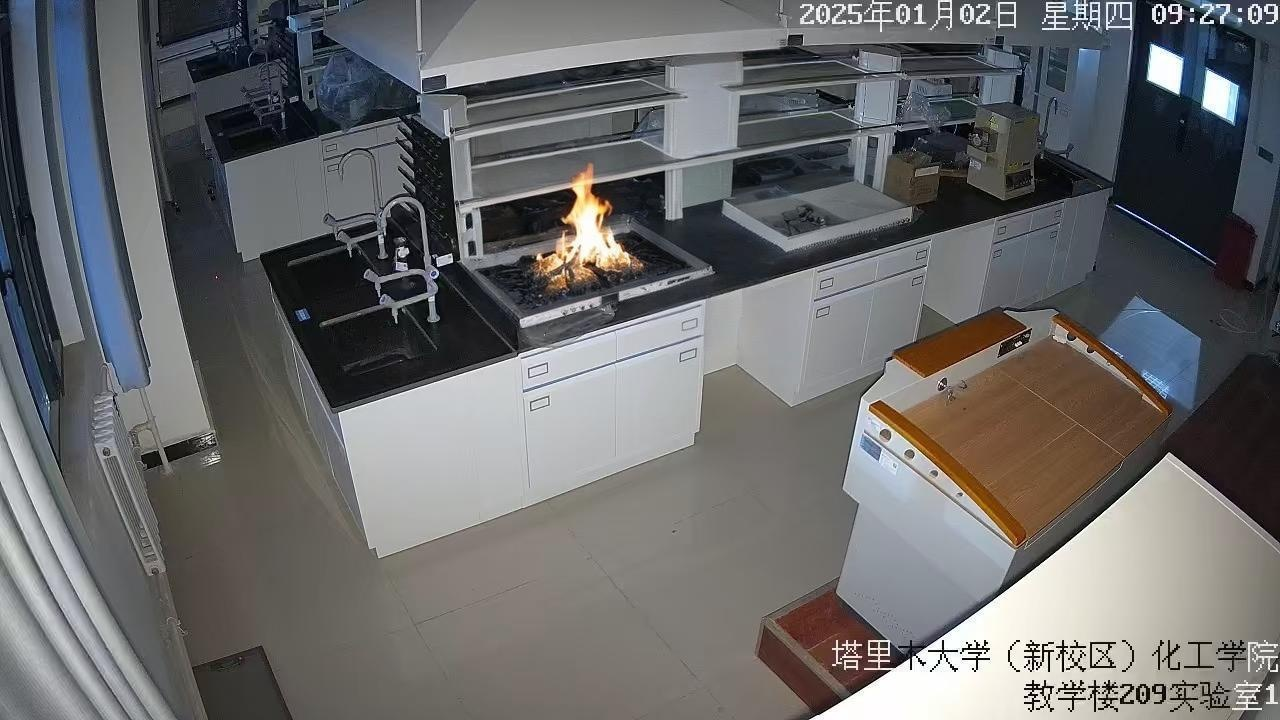fire: (532, 167, 661, 325)
